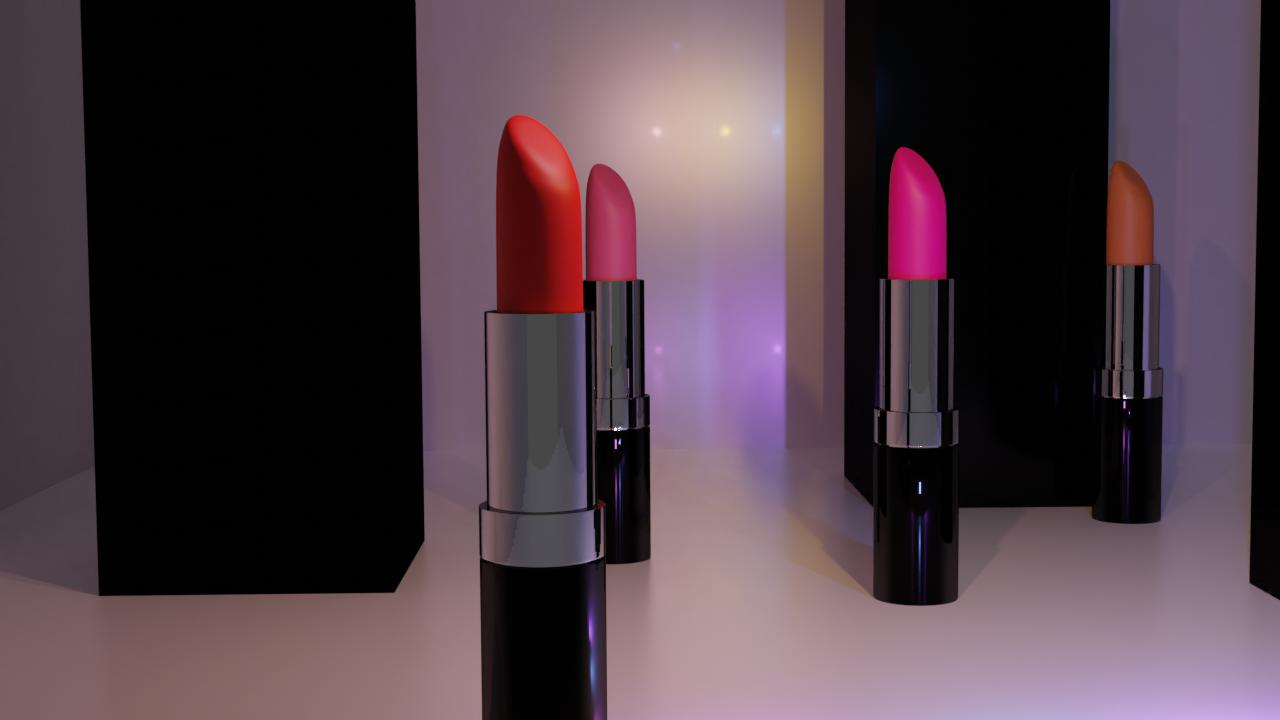CLASSIFIER_NAME: (477, 106, 609, 720), (871, 142, 961, 606), (574, 158, 652, 570), (1090, 156, 1165, 524)
